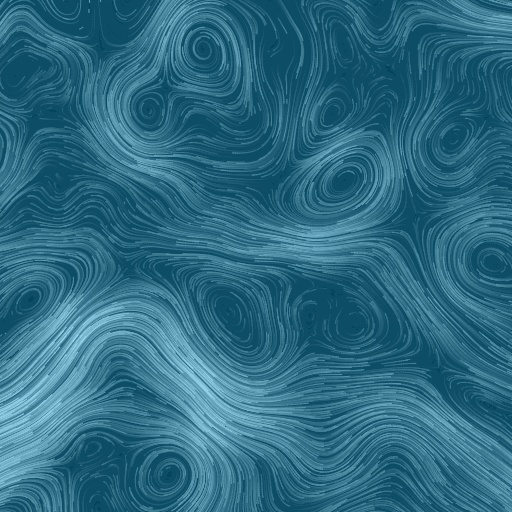eddy: (163, 14, 245, 94), (305, 142, 390, 218), (193, 278, 267, 355), (133, 442, 204, 508), (430, 113, 479, 171), (321, 12, 364, 74), (310, 81, 358, 134), (5, 278, 56, 323), (327, 302, 380, 345), (74, 429, 120, 470), (471, 243, 509, 283), (134, 93, 166, 126)
